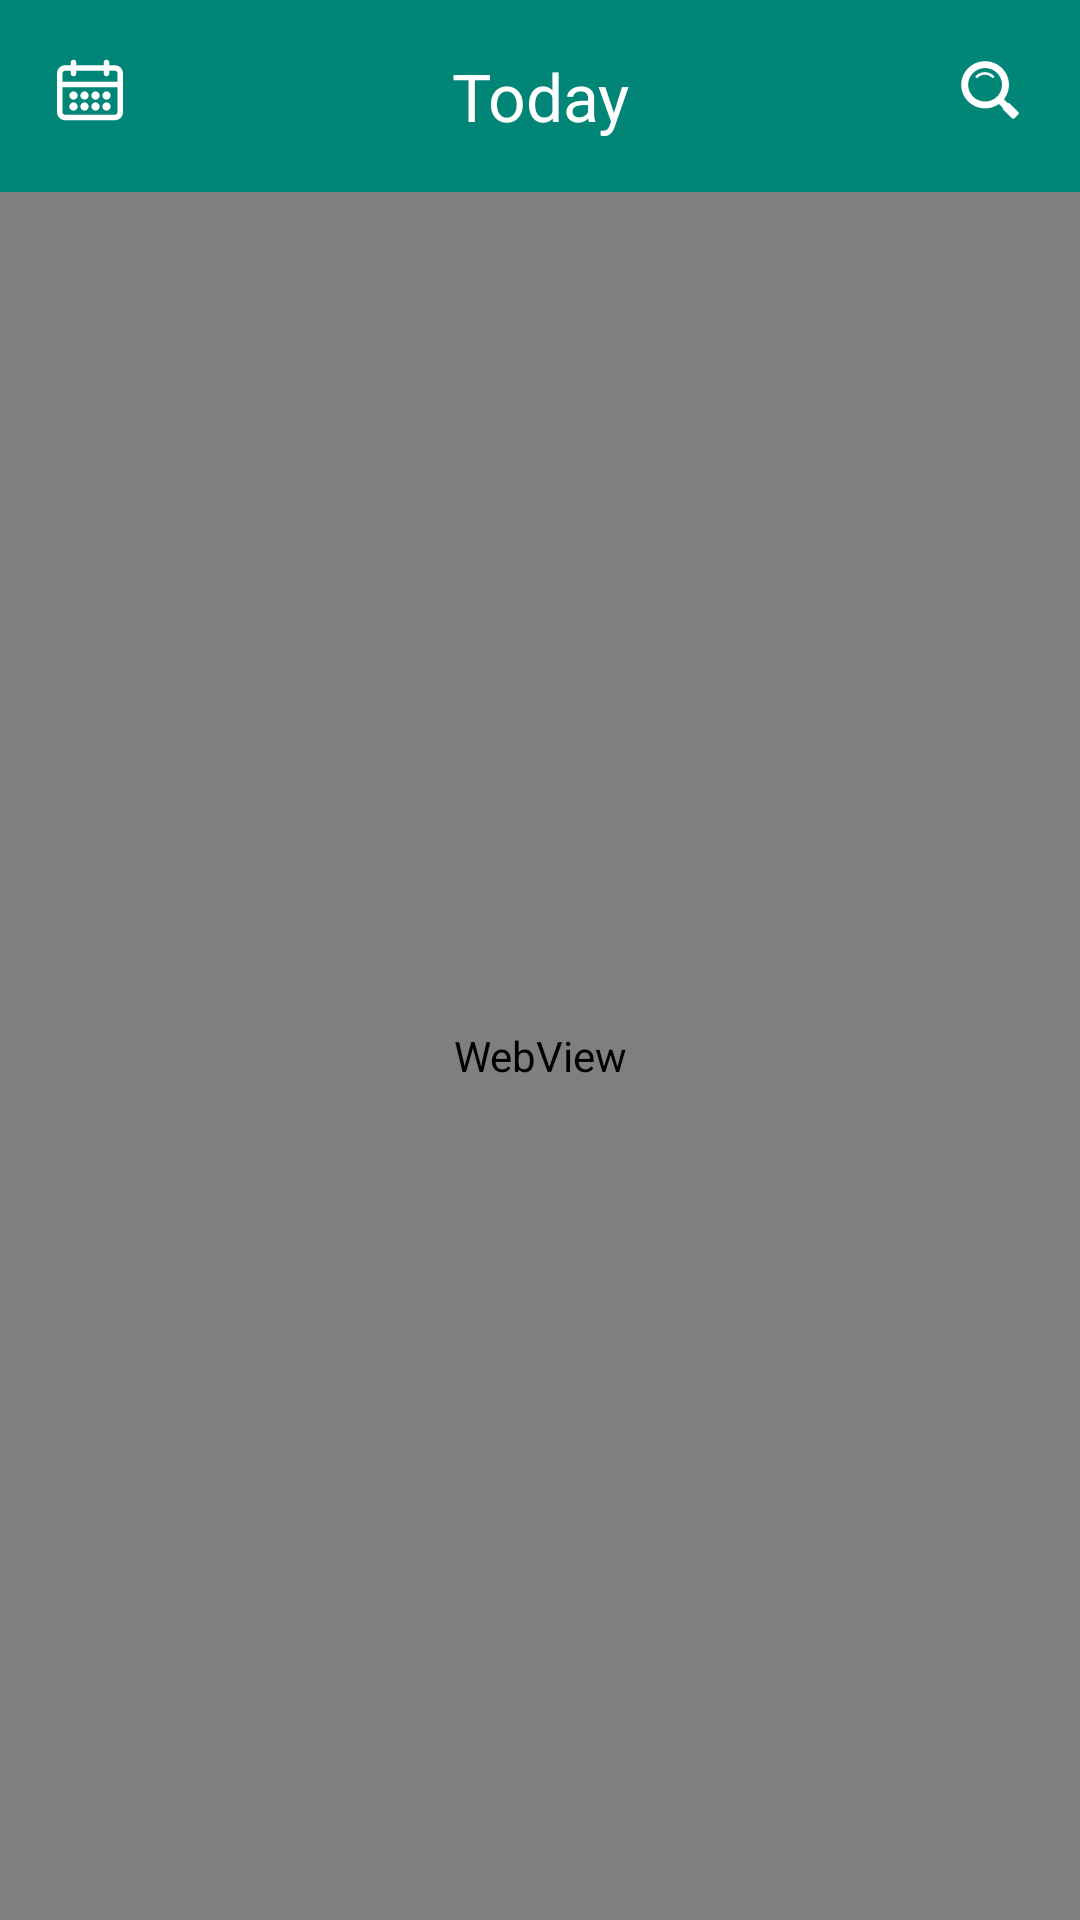

Where icons sit on this 1080x1920 app screen, as bbox=[x1, y1, x2, y2]:
calendar: bbox=[57, 59, 123, 121]
search: bbox=[961, 61, 1019, 119]
